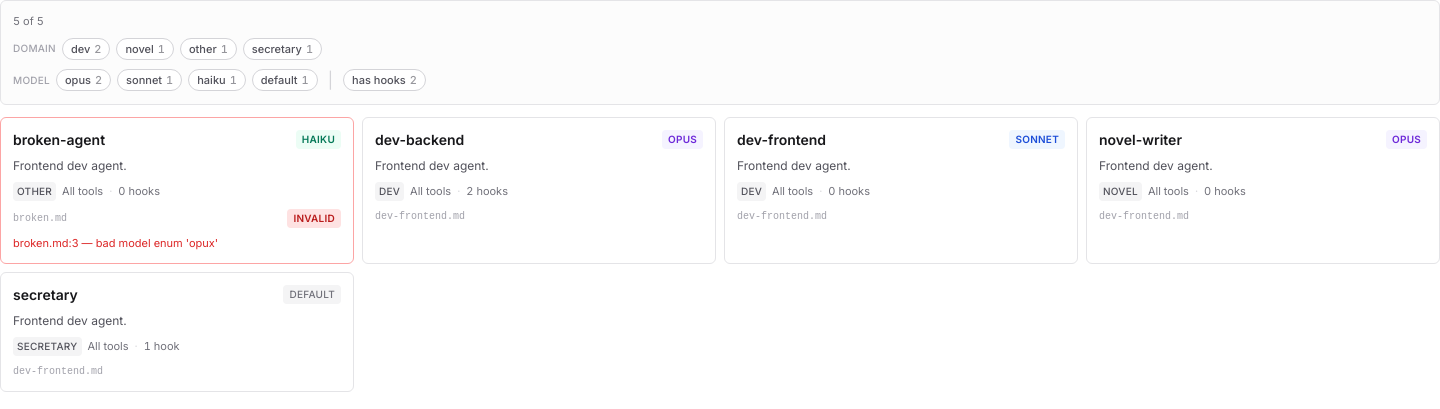
Scenario: AgentGallery — filters › shows the no-match state when filters exclude everything
The width and height of the screenshot is (1440, 409).
Click the button "novel 1" at point(145, 49), box [116,38,174,60]
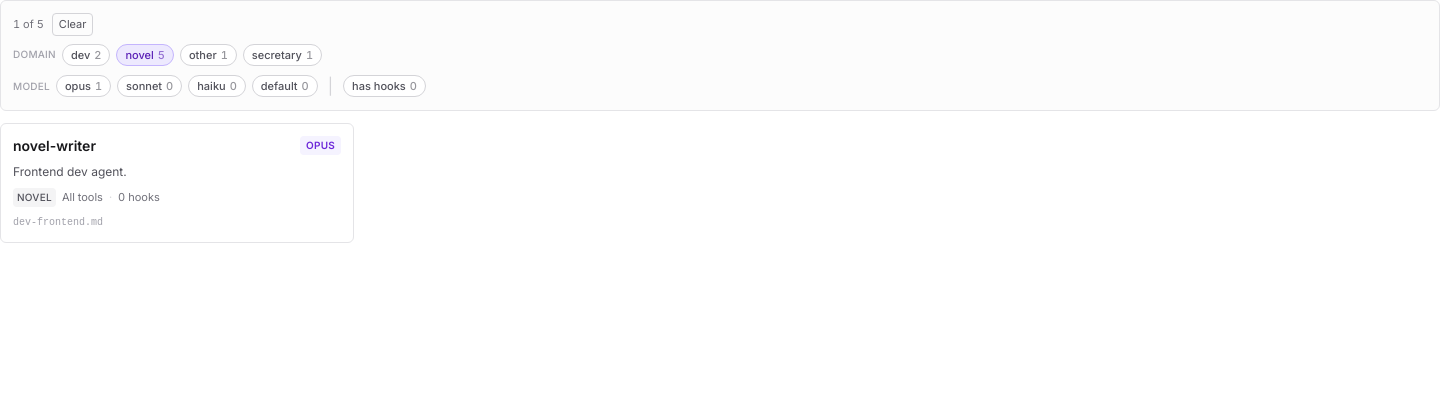
Click the button "haiku 0" at point(217, 86), box [188,75,246,97]
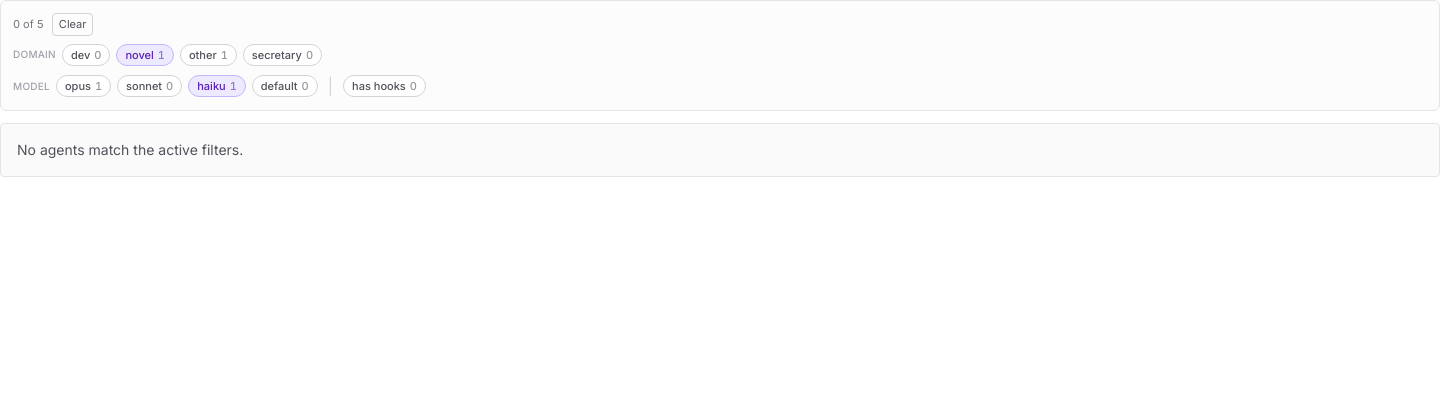
Expected: the text "No agents match the active filters." is shown, [0,123,1439,177]
